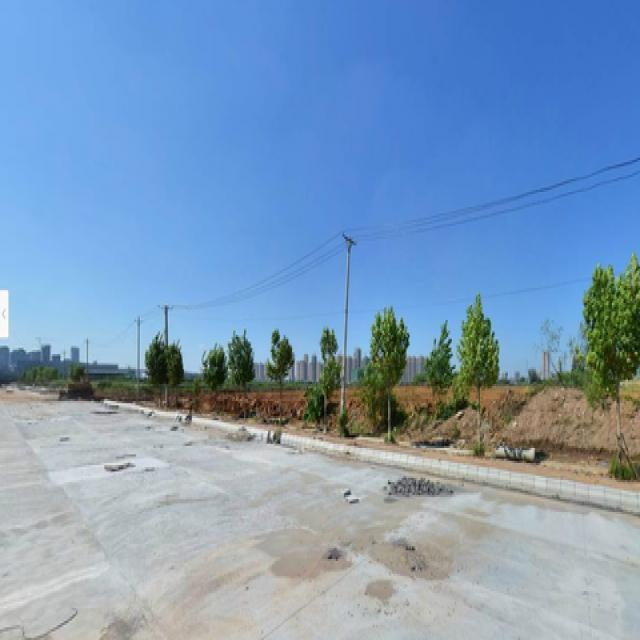meta: (577, 275, 639, 452), (449, 292, 499, 476), (365, 307, 399, 435), (268, 324, 299, 427), (316, 332, 333, 427)
